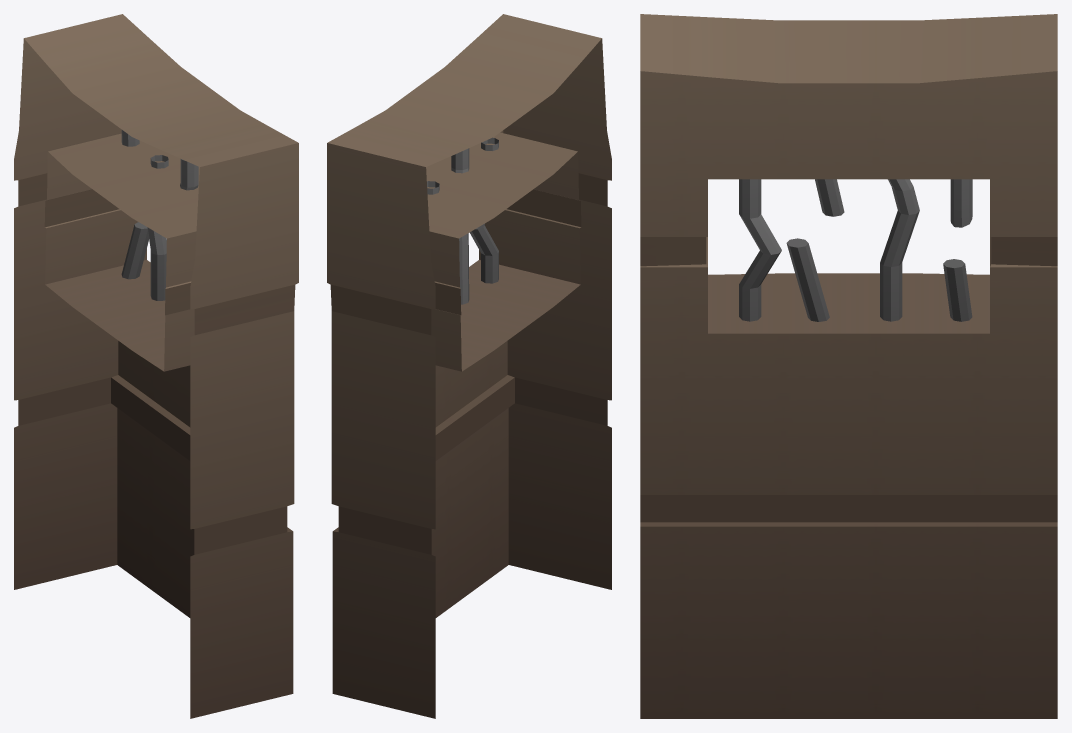
File: Pared con ventana.fbx
3 renders of one model, left to right at view 1: azimuth 30°, elevation 25°; view 2: azimuth 150°, elevation 25°; view 3: azimuth 270°, elevation 25°, orthographic. The views are drawn at different scales.
Parts seen in each view (by area): view 1: ParedMedia.004, Cylinder.001; view 2: ParedMedia.004, Cylinder.001; view 3: ParedMedia.004, Cylinder.001.
Part boxes in pixels (x1=…): ParedMedia.004: x1=14, y1=14, x2=298, y2=718; Cylinder.001: x1=121, y1=130, x2=198, y2=300; ParedMedia.004: x1=327, y1=14, x2=611, y2=718; Cylinder.001: x1=427, y1=137, x2=498, y2=304; ParedMedia.004: x1=640, y1=14, x2=1057, y2=718; Cylinder.001: x1=739, y1=179, x2=972, y2=321.
Size of the model in its own units: 211 by 1019 by 592.
